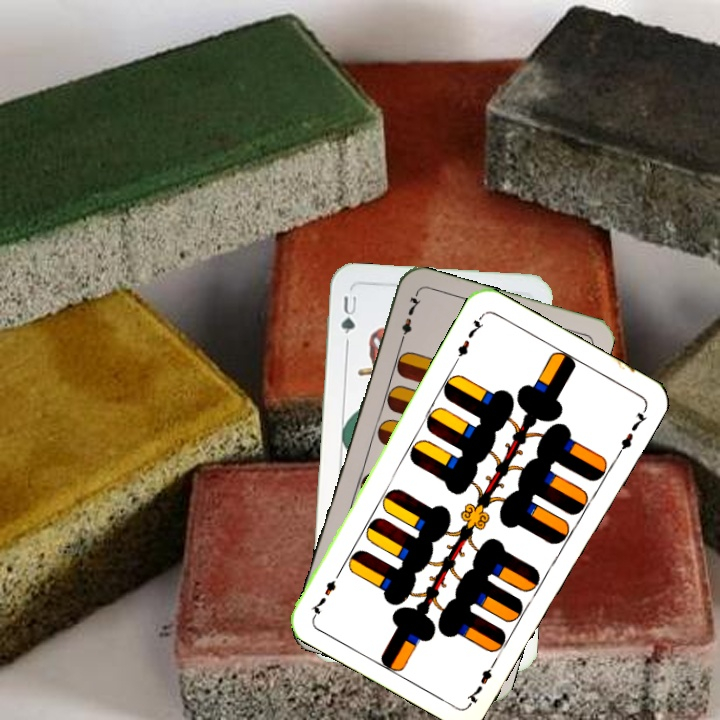E7: (463, 652, 501, 706), (451, 311, 487, 365), (395, 290, 424, 348)
GU: (337, 292, 359, 336)
